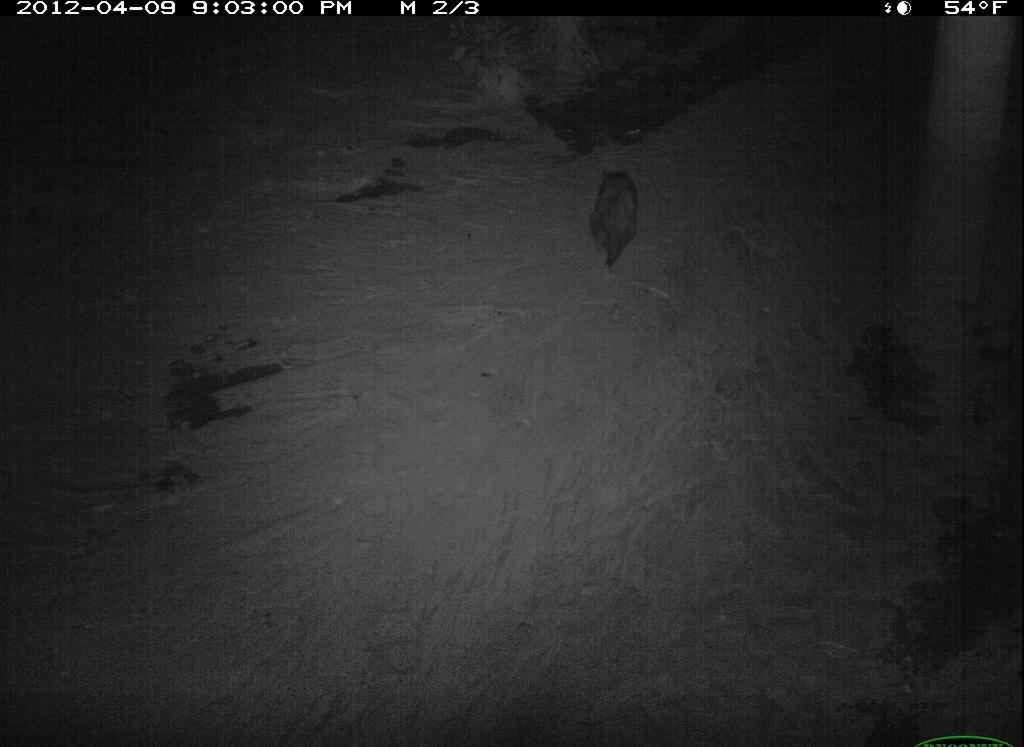opossum: (559, 146, 661, 282)
